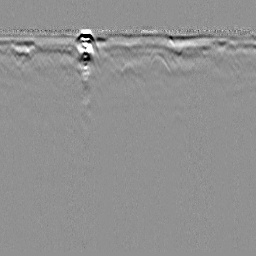cavity: (122, 59, 136, 76)
